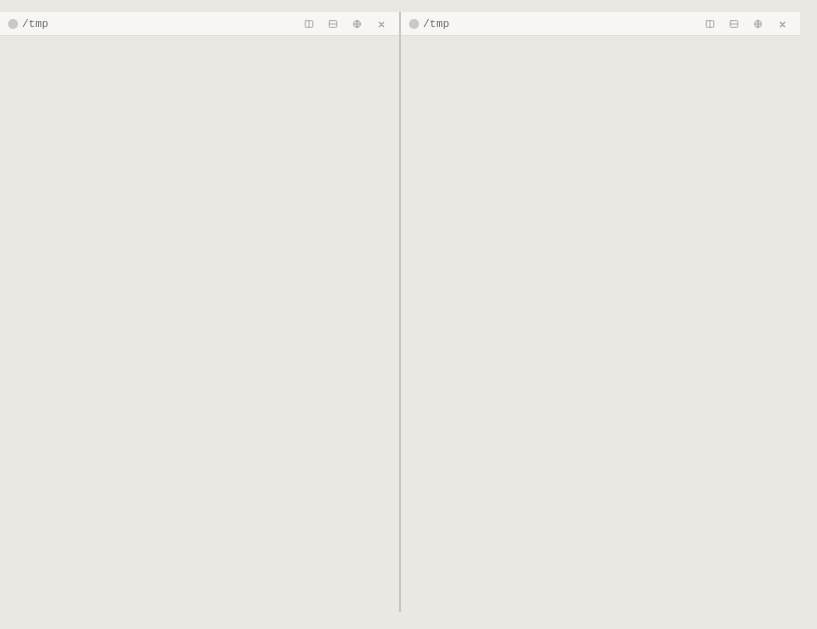
Test case: PaneGrid resize badge › falls back to pixels for a pane with no cell size
The width and height of the screenshot is (817, 629).
Press the mouse on the element with test id "divider-d" at (400, 312), box [399,12,401,612]
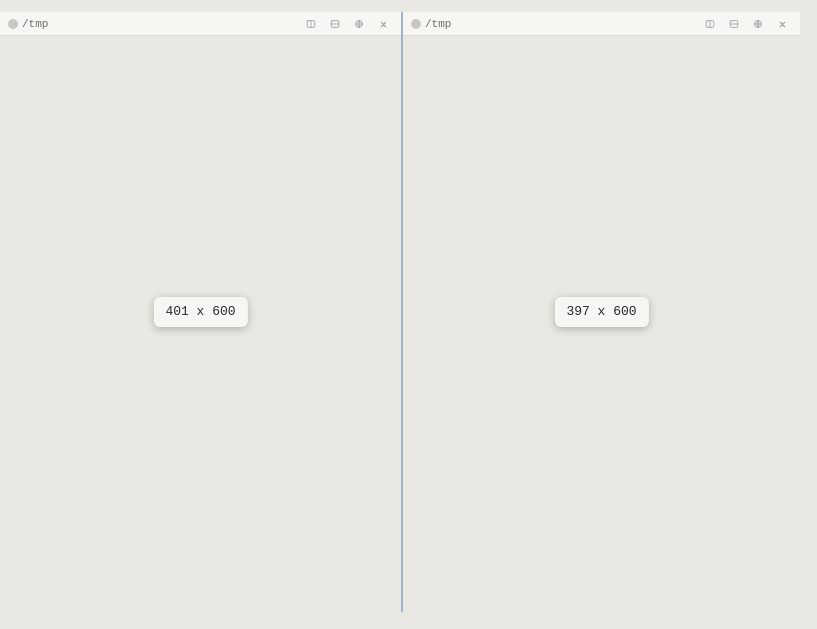
expect the text with test id "pane-size-a" reads "401 x 600": met, box [165,304,236,319]
